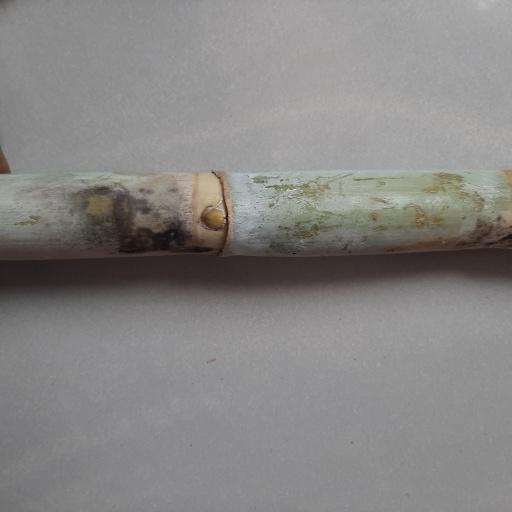Bud: (200, 205, 227, 231)
